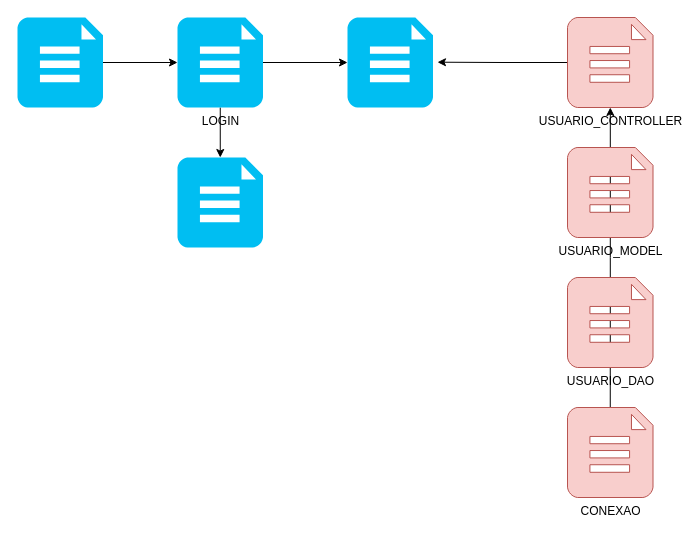
This 699x551 diagram has some shape labels left out. The shapes that lost their labels are listed below. From the top down, each one's centre as x and y in pixels, then its label:
[59,62]: INDEX
[389,62]: USUARIO_ROUTER
[219,202]: CADASTRO
